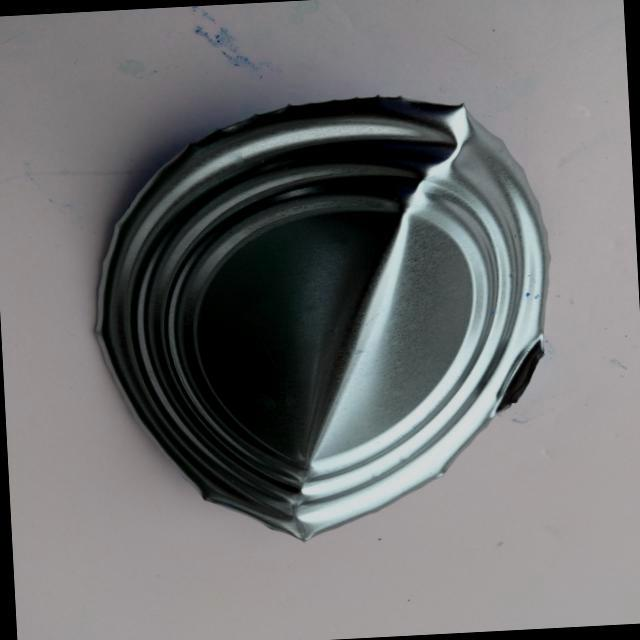metal: (79, 79, 568, 580)
